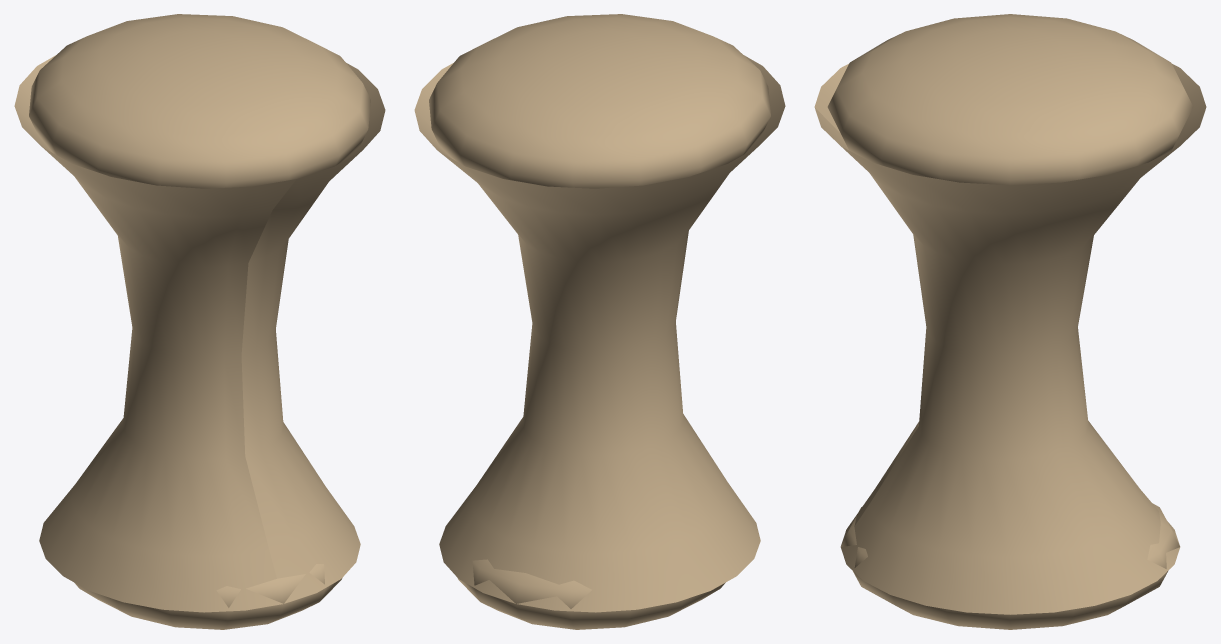
File: left_digit_4_distal.glb
The picture shows the model from 3 angles, left to right: view 1: azimuth 30°, elevation 25°; view 2: azimuth 150°, elevation 25°; view 3: azimuth 270°, elevation 25°; orthographic projection.
Parts seen in each view (by area): view 1: left_digit_4_distal:diaphysis, left_digit_4_distal:proximal-envelope, left_digit_4_distal:distal-envelope; view 2: left_digit_4_distal:diaphysis, left_digit_4_distal:proximal-envelope, left_digit_4_distal:distal-envelope; view 3: left_digit_4_distal:diaphysis, left_digit_4_distal:proximal-envelope, left_digit_4_distal:distal-envelope.
Part boxes in pixels (x1,y1,x2,y2): left_digit_4_distal:diaphysis: [14, 55, 385, 612]; left_digit_4_distal:proximal-envelope: [29, 14, 370, 188]; left_digit_4_distal:distal-envelope: [74, 564, 342, 629]; left_digit_4_distal:diaphysis: [414, 55, 785, 612]; left_digit_4_distal:proximal-envelope: [429, 14, 770, 188]; left_digit_4_distal:distal-envelope: [457, 559, 725, 629]; left_digit_4_distal:diaphysis: [814, 64, 1206, 614]; left_digit_4_distal:proximal-envelope: [827, 14, 1193, 185]; left_digit_4_distal:distal-envelope: [841, 503, 1179, 629].
Bounding box in the file's own units: 0.0799 × 0.1316 × 0.0846.
